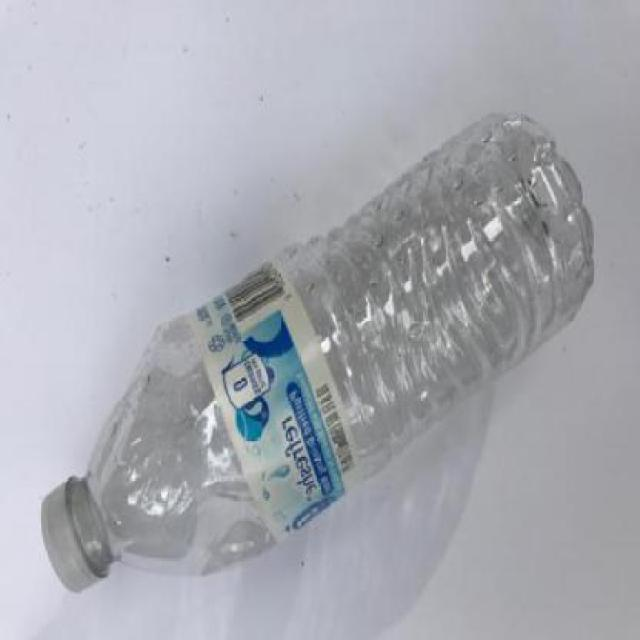PLASTIC: (86, 115, 592, 572), (194, 262, 354, 537), (40, 476, 112, 591)
